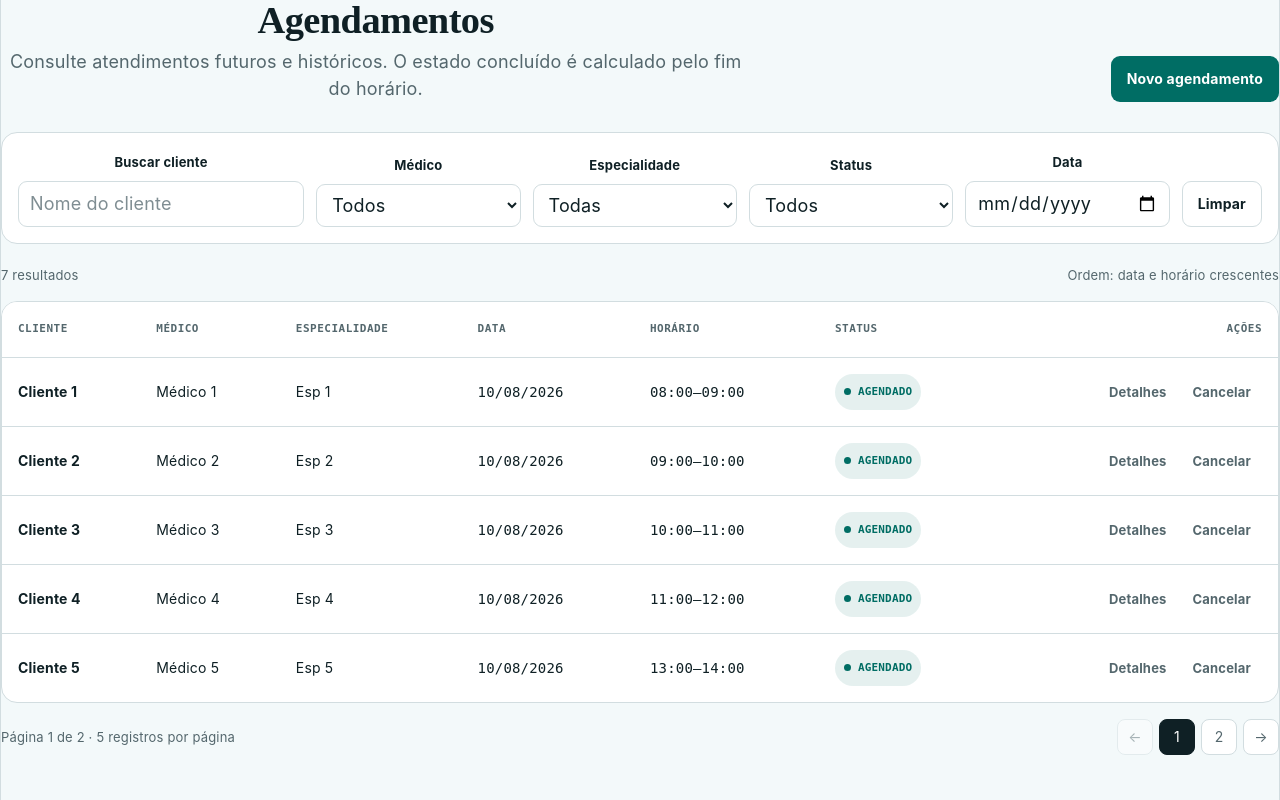
Test: AgendamentosPage — cancelamento (FE3) › fluxo CLIENTE: abre modal, seleciona origem, confirma → fecha modal, toast, lista atualizada
Expected: the text "Cliente 1" is shown, [18, 382, 77, 400]
Click the button "Cancelar" in the row of "Cliente 1" at (1222, 392), box [1182, 372, 1262, 412]
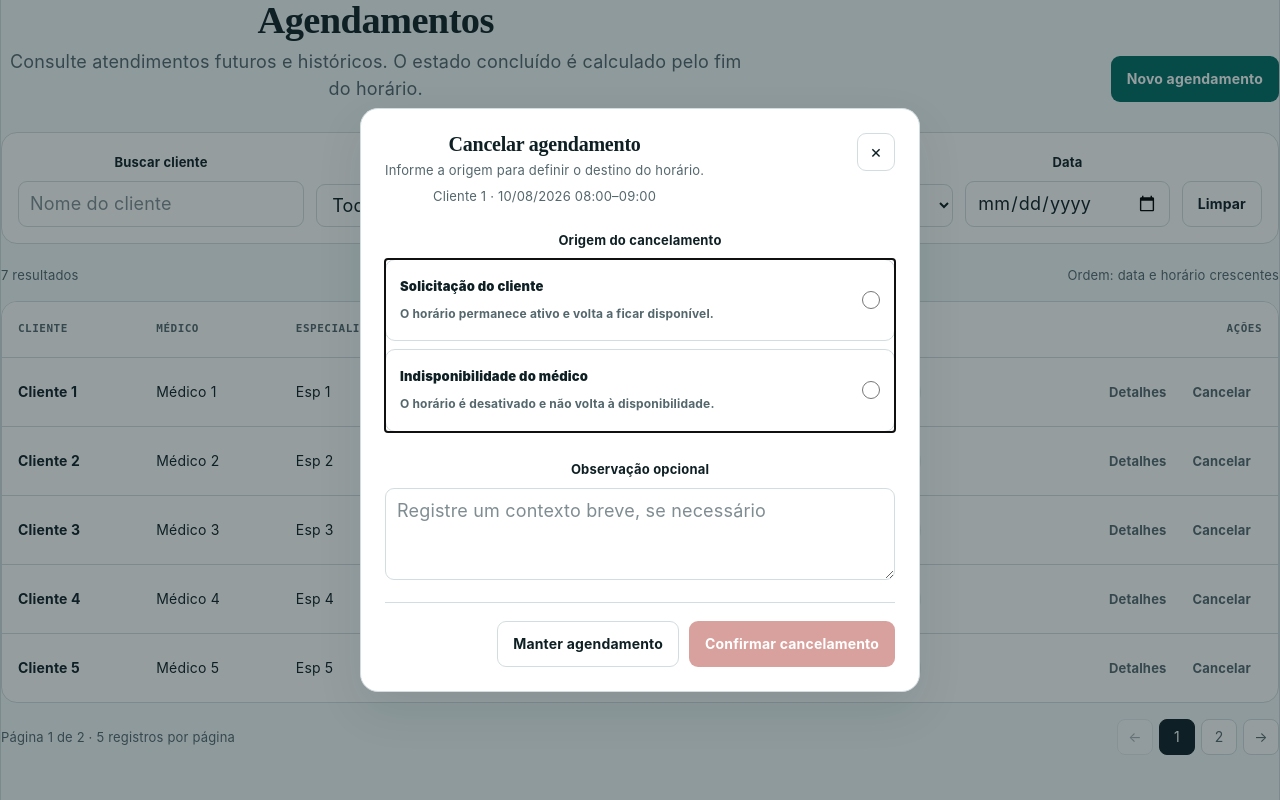
Click the radio button labelled "Solicitação do cliente" at (871, 300), box [862, 291, 880, 309]
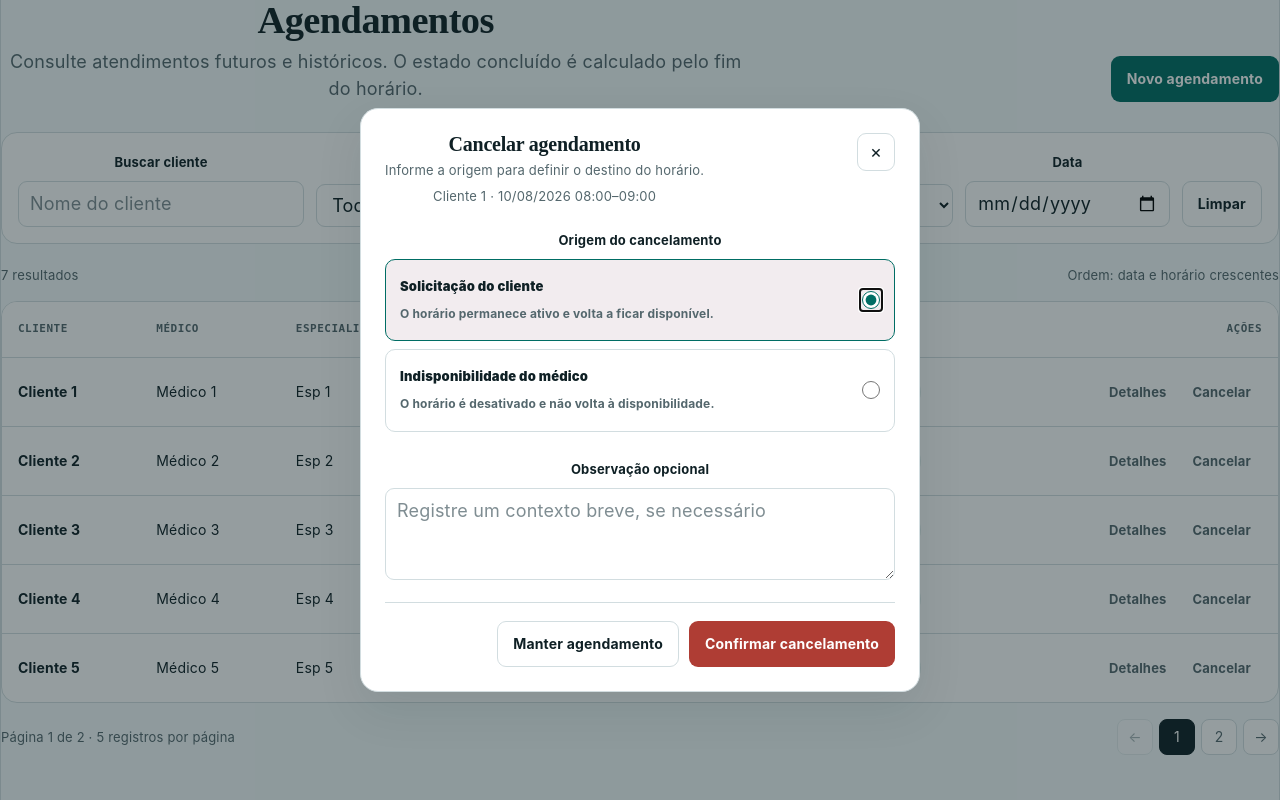
Click the button "Confirmar cancelamento" at (792, 644), box [689, 621, 895, 667]
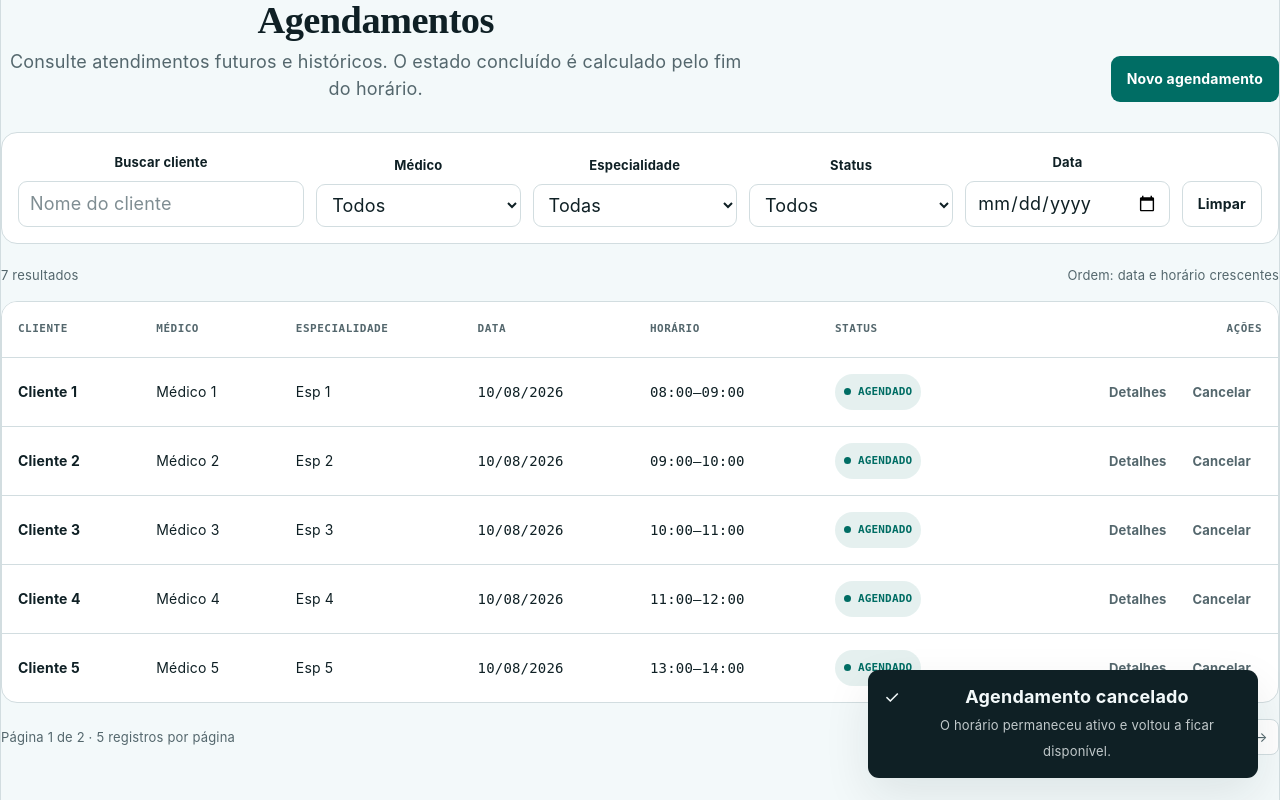
Result: the text "Agendamento cancelado" is shown at [965, 686, 1189, 707]
